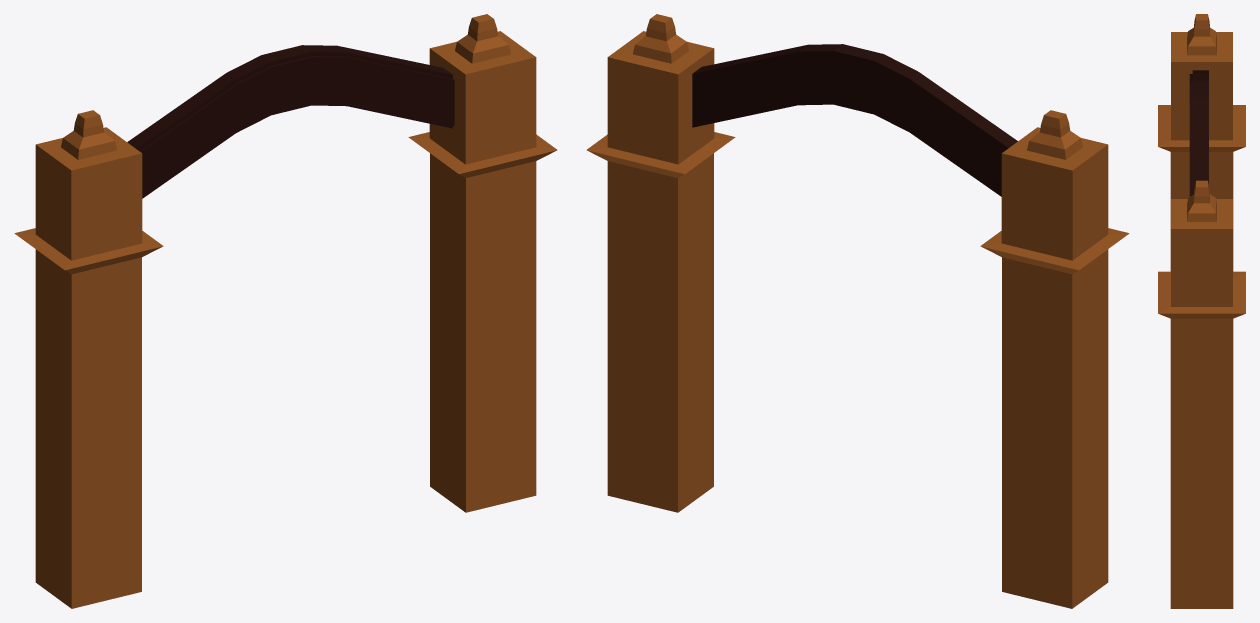
File: Gate.fbx
3 views of the same model, side by side, from view 1: azimuth 30°, elevation 25°; view 2: azimuth 150°, elevation 25°; view 3: azimuth 270°, elevation 25° (orthographic). The views are drawn at different scales.
Parts seen in each view (by area): view 1: Plane.195; view 2: Plane.195; view 3: Plane.195.
Boxes of the visible parts, x1,y1,x2,y2 form: Plane.195: (14, 14, 557, 608); Plane.195: (586, 14, 1129, 608); Plane.195: (1158, 14, 1245, 608).
Size of the model in its own units: 446 by 421 by 79.5.
